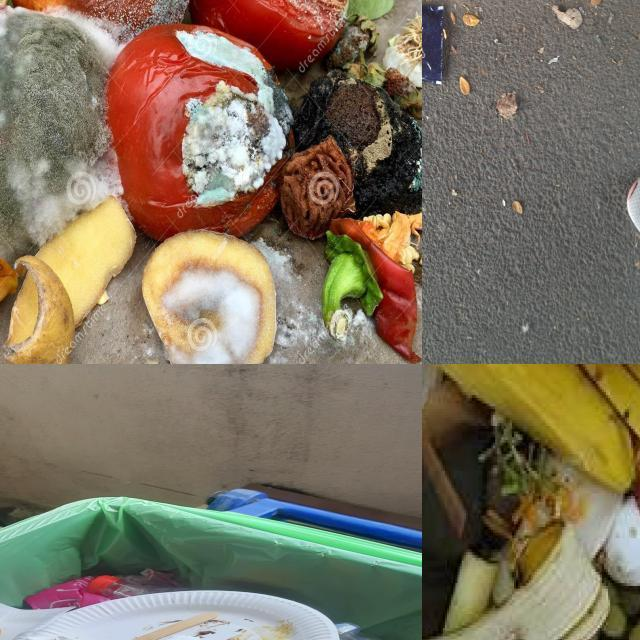Background: (422, 0, 640, 364)
Disposable: (35, 590, 339, 640)
Garbage: (422, 364, 640, 640)
Plastic_bottle: (87, 576, 191, 599), (336, 623, 380, 640)
Plastic_wraper: (24, 576, 109, 609), (422, 6, 443, 83)
